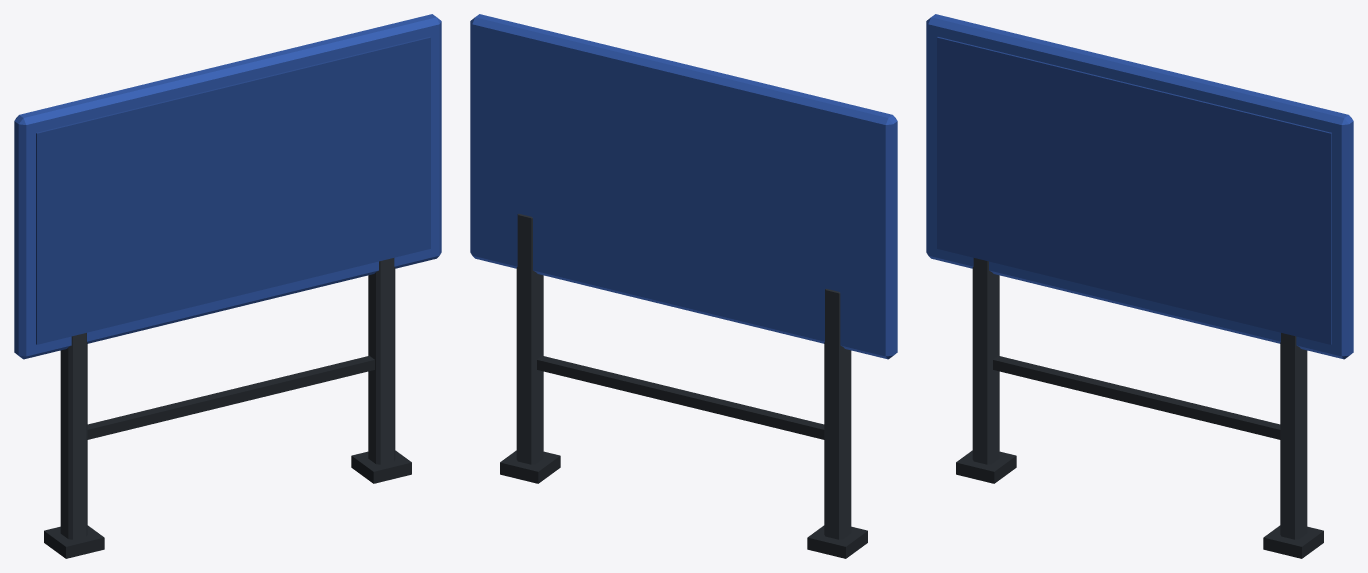
File: prop_billboard_b-gt7AsocU.glb
The picture shows the model from 3 angles, left to right: view 1: azimuth 30°, elevation 25°; view 2: azimuth 150°, elevation 25°; view 3: azimuth 330°, elevation 25°; orthographic projection.
Parts seen in each view (by area): view 1: prop; view 2: prop; view 3: prop.
Boxes of the visible parts, x1,y1,x2,y2 form: prop: [14, 14, 441, 558]; prop: [470, 14, 897, 558]; prop: [926, 14, 1353, 558].
Size of the model in its own units: 4.4 by 4.4 by 0.4.
